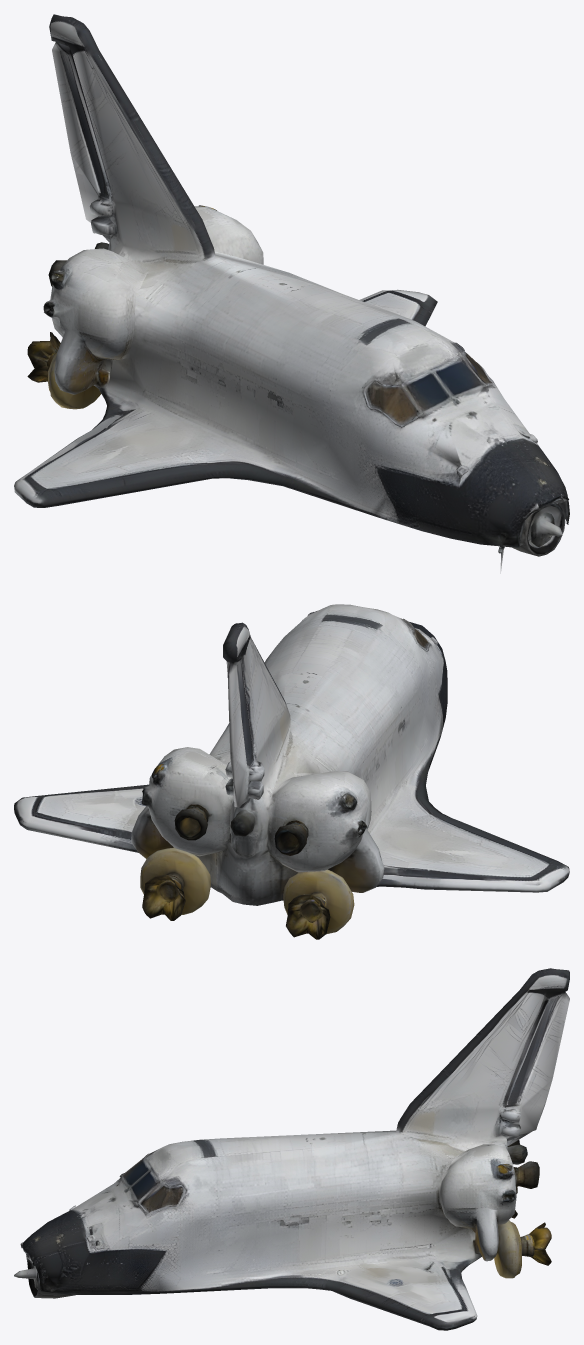
The model's file is crew_shuttle.glb.
3 views of the same model, one above another, from view 1: azimuth 30°, elevation 25°; view 2: azimuth 150°, elevation 25°; view 3: azimuth 270°, elevation 25° (orthographic). The views are drawn at different scales.
Parts seen in each view (by area): view 1: tripo_node_2c15c501-c5d3-4783-9552-da5ae55602ac; view 2: tripo_node_2c15c501-c5d3-4783-9552-da5ae55602ac; view 3: tripo_node_2c15c501-c5d3-4783-9552-da5ae55602ac.
Part boxes in pixels (x1,y1,x2,y2): tripo_node_2c15c501-c5d3-4783-9552-da5ae55602ac: [14, 14, 569, 573]; tripo_node_2c15c501-c5d3-4783-9552-da5ae55602ac: [14, 604, 569, 939]; tripo_node_2c15c501-c5d3-4783-9552-da5ae55602ac: [14, 968, 569, 1330].
Bounding box in the file's own units: 0.8105 × 0.5488 × 0.998.
Materials: 1 (1 with a texture image).
